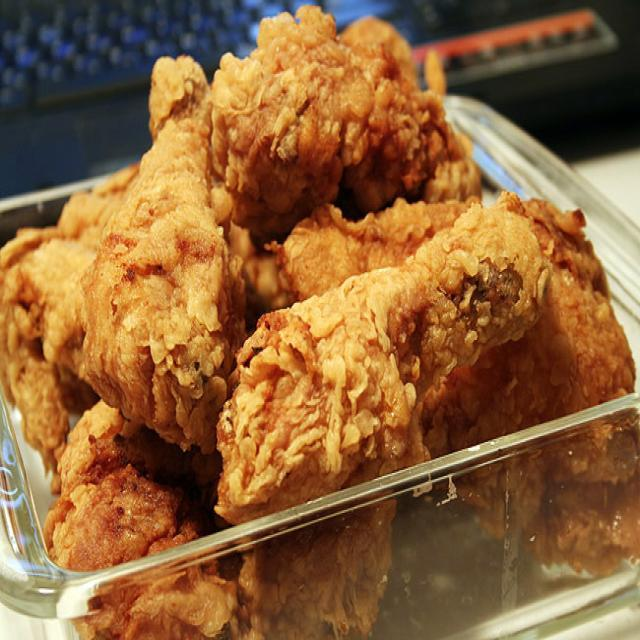Frango: (1, 9, 634, 548)
